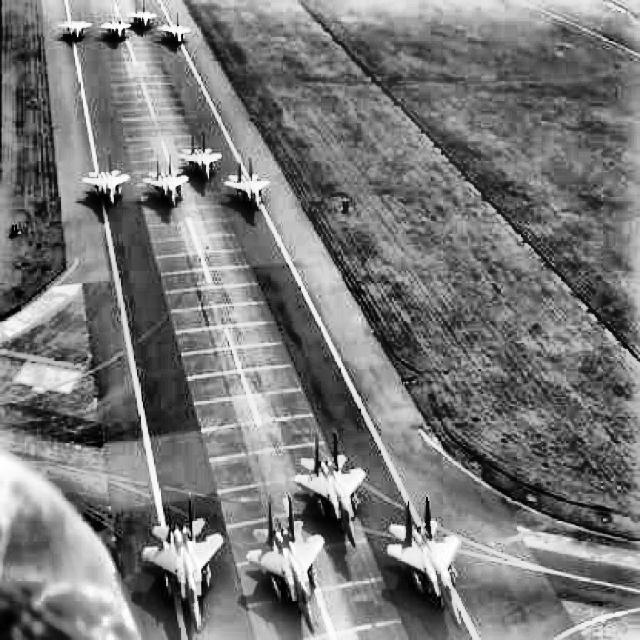F15: (142, 492, 224, 634), (246, 494, 325, 635), (387, 493, 462, 632), (294, 428, 366, 550), (142, 153, 190, 210), (82, 150, 129, 207), (224, 157, 270, 212), (177, 132, 221, 182), (58, 7, 92, 41), (99, 8, 132, 42), (158, 12, 191, 46), (125, 1, 156, 30)
